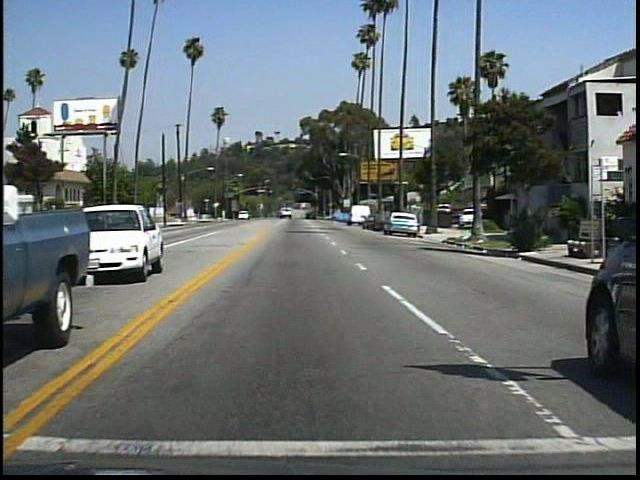person: (517, 198, 542, 251)
